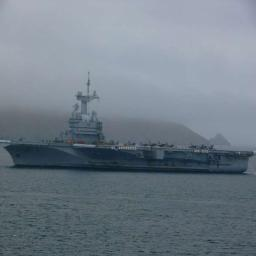Portanaves: (3, 71, 255, 176)
